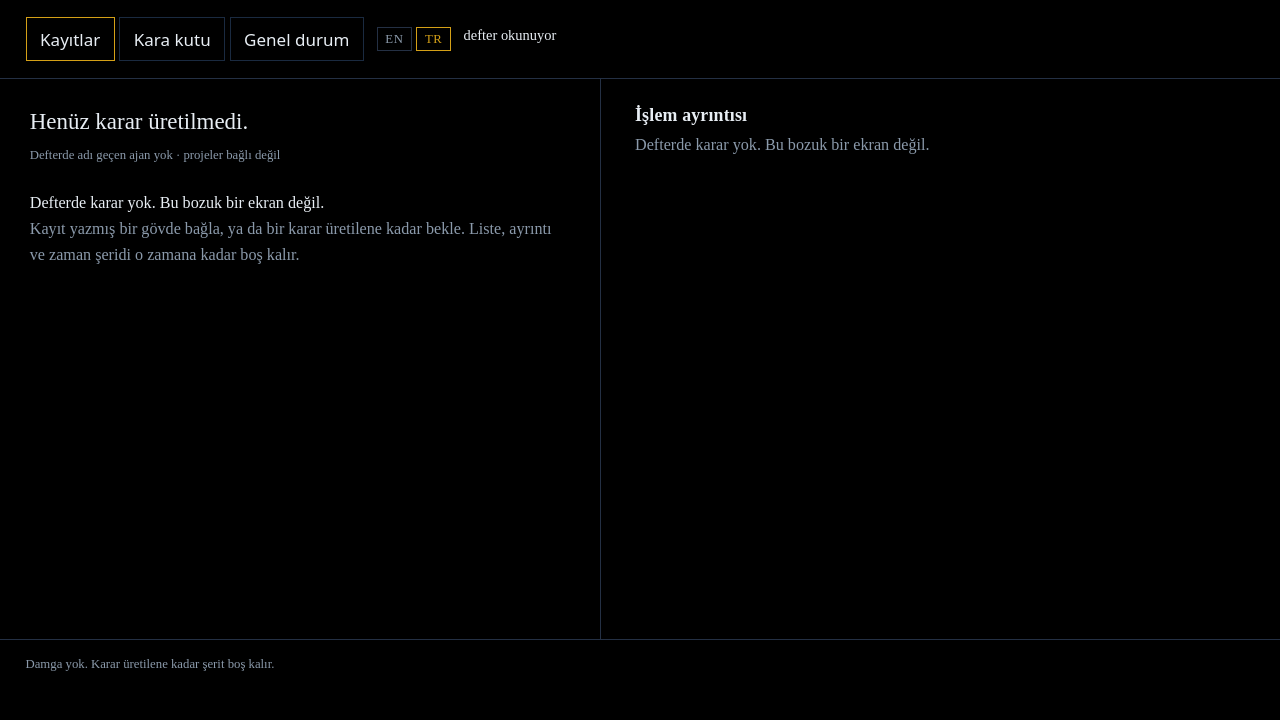
approving from the screen › asks before it approves, and names what is being approved
This screenshot has width=1280, height=720.
Click the tab "Genel durum".
click(297, 39)  # box 230,17 -> 364,61
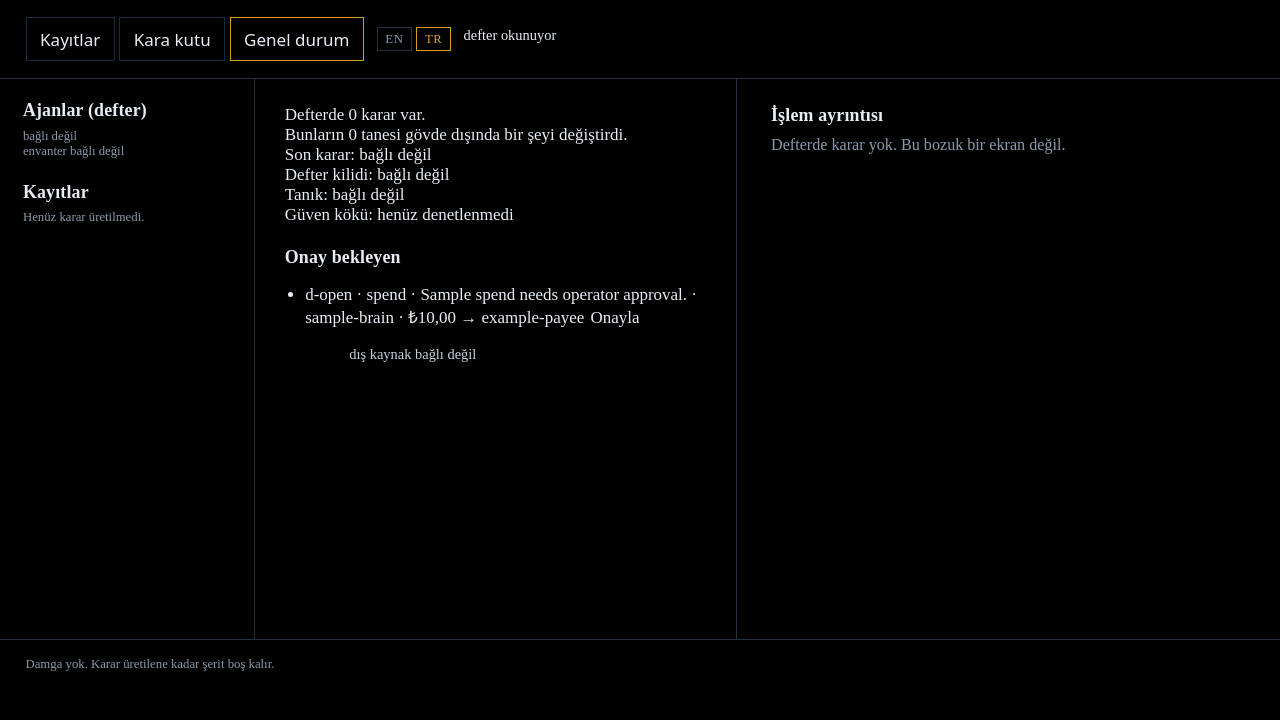
Click the button "Onayla".
click(615, 318)  # box 584,307 -> 646,329
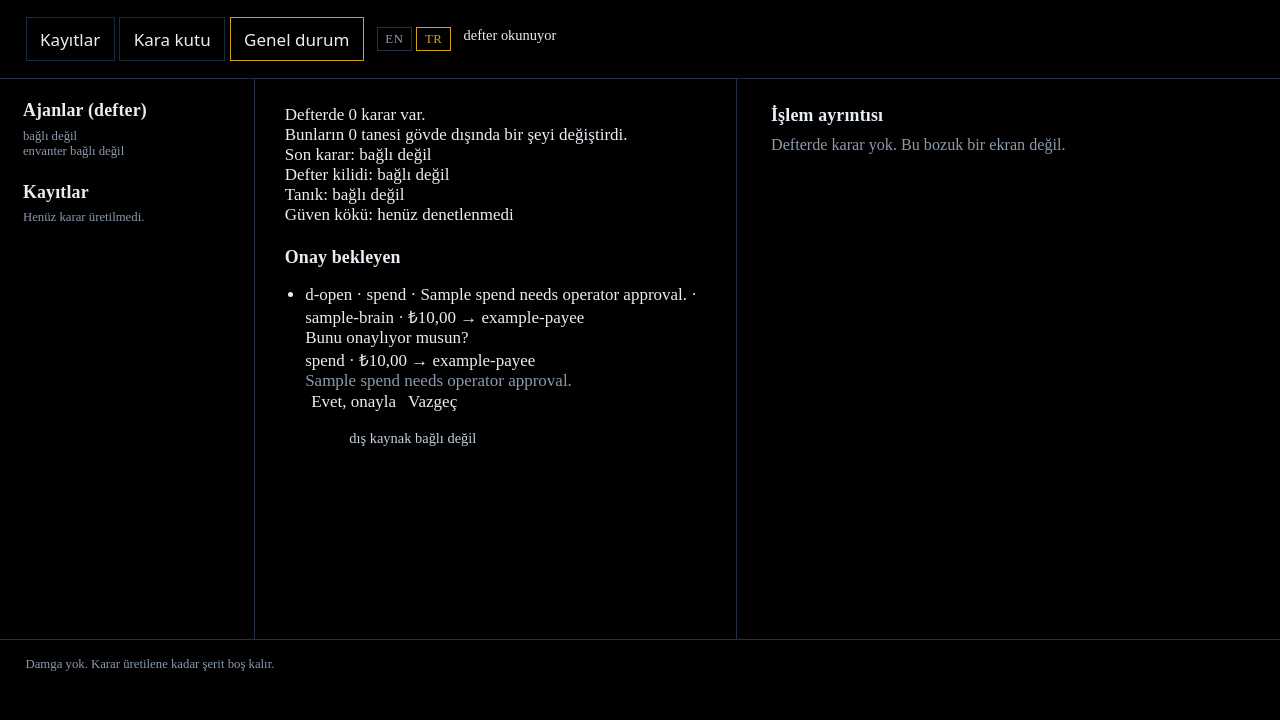
Check: the element with test id "approve-confirm" shows "10,00", box 345,351 -> 407,370
Check: the element with test id "approve-confirm" shows "example-payee", box 407,351 -> 535,370
Check: the element with test id "approve-confirm" shows "Sample spend needs operator approval.", box 305,371 -> 572,390
